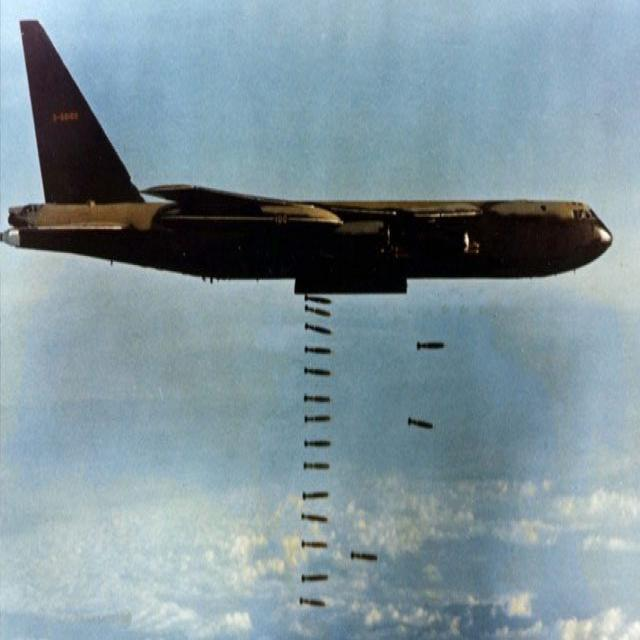B52: (4, 14, 621, 354)
